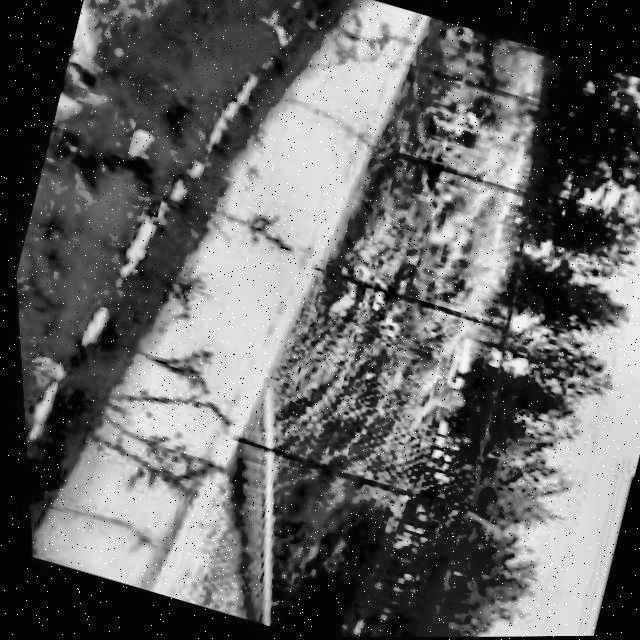Fire: (52, 25, 137, 123)
